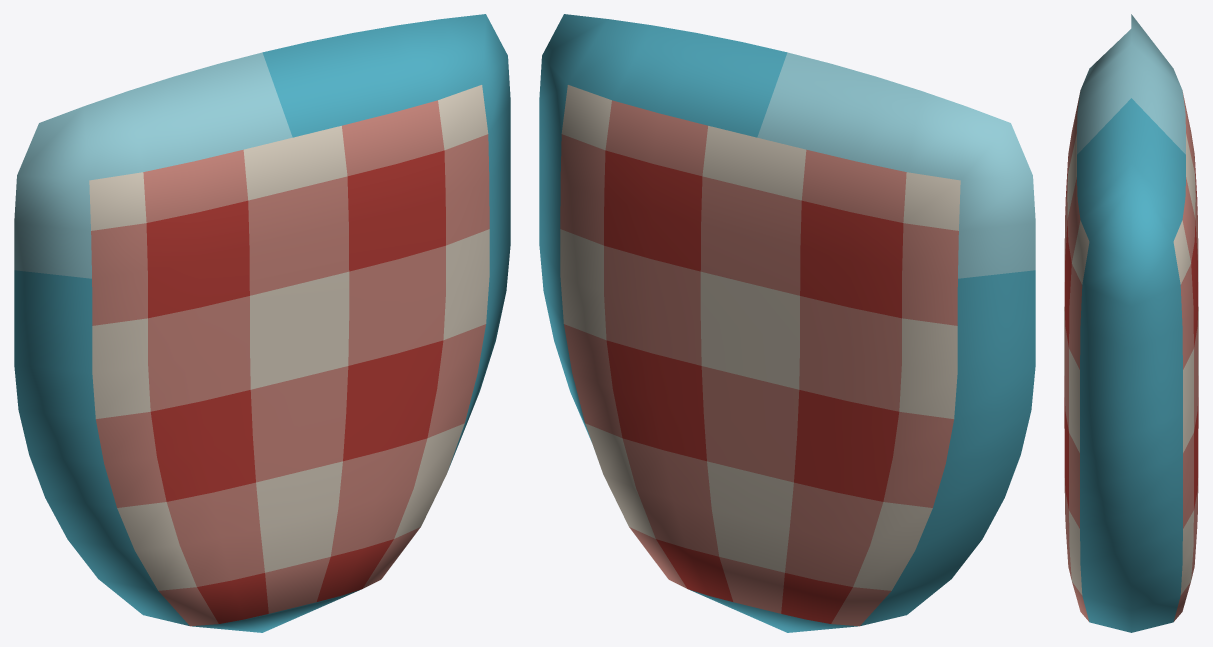
Rendered from pu-shield.glb.
3 renders of one model, left to right at view 1: azimuth 30°, elevation 25°; view 2: azimuth 150°, elevation 25°; view 3: azimuth 270°, elevation 25°, orthographic. The views are drawn at different scales.
Visible parts, largest first — view 1: shield_pickup; view 2: shield_pickup; view 3: shield_pickup.
Part boxes in pixels (x1=…): shield_pickup: x1=14, y1=14, x2=510, y2=632; shield_pickup: x1=539, y1=14, x2=1035, y2=632; shield_pickup: x1=1064, y1=14, x2=1198, y2=632.
Size of the model in its own units: 0.696 by 0.7776 by 0.18.
